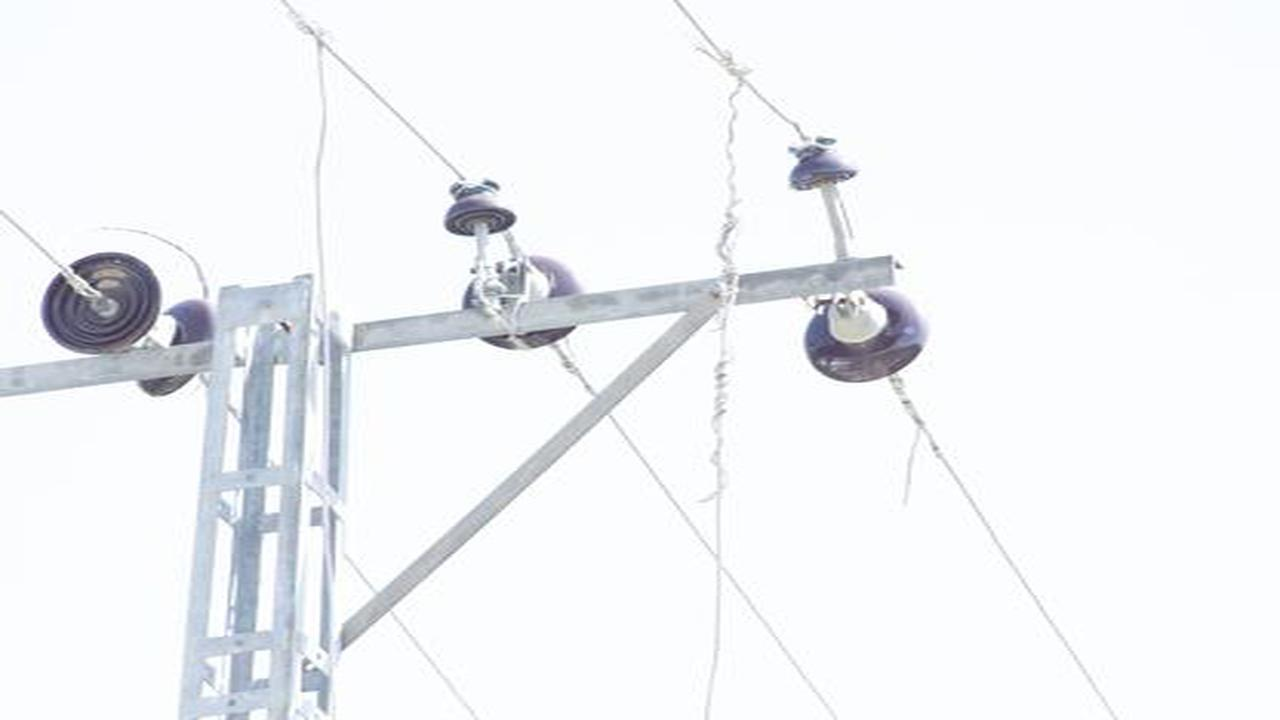insulator_disc: (37, 247, 165, 356), (804, 283, 930, 387)
insulator_pin: (779, 134, 862, 198), (441, 176, 522, 238)
